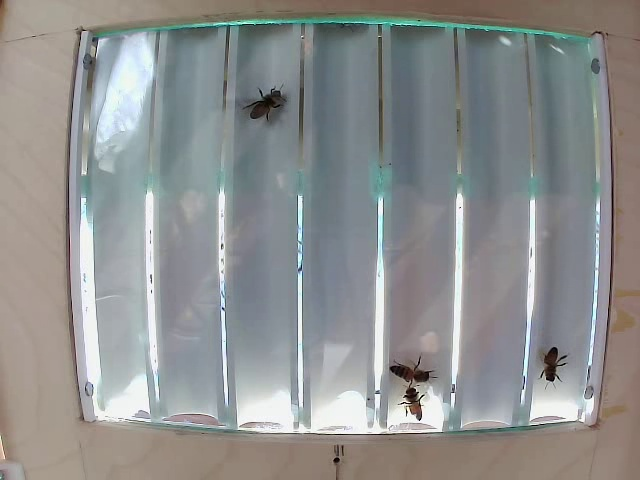bee: (244, 84, 293, 128), (389, 350, 446, 380), (402, 380, 440, 423), (541, 347, 570, 380)
